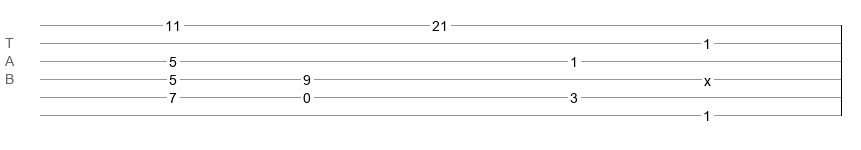0: (303, 90, 311, 100)
1: (570, 54, 578, 64), (703, 36, 711, 46), (703, 108, 711, 118)
11: (165, 18, 181, 28)
21: (432, 18, 448, 28)
3: (570, 90, 578, 100)
5: (169, 54, 177, 64), (169, 72, 177, 82)
7: (169, 90, 177, 100)
9: (303, 72, 311, 82)
x: (704, 73, 711, 81)
